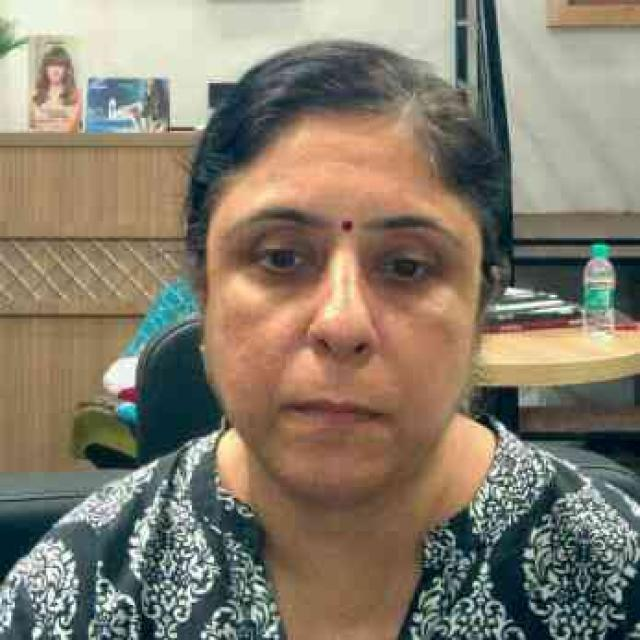puffy_eyes: (243, 265, 318, 300), (368, 275, 430, 308)
